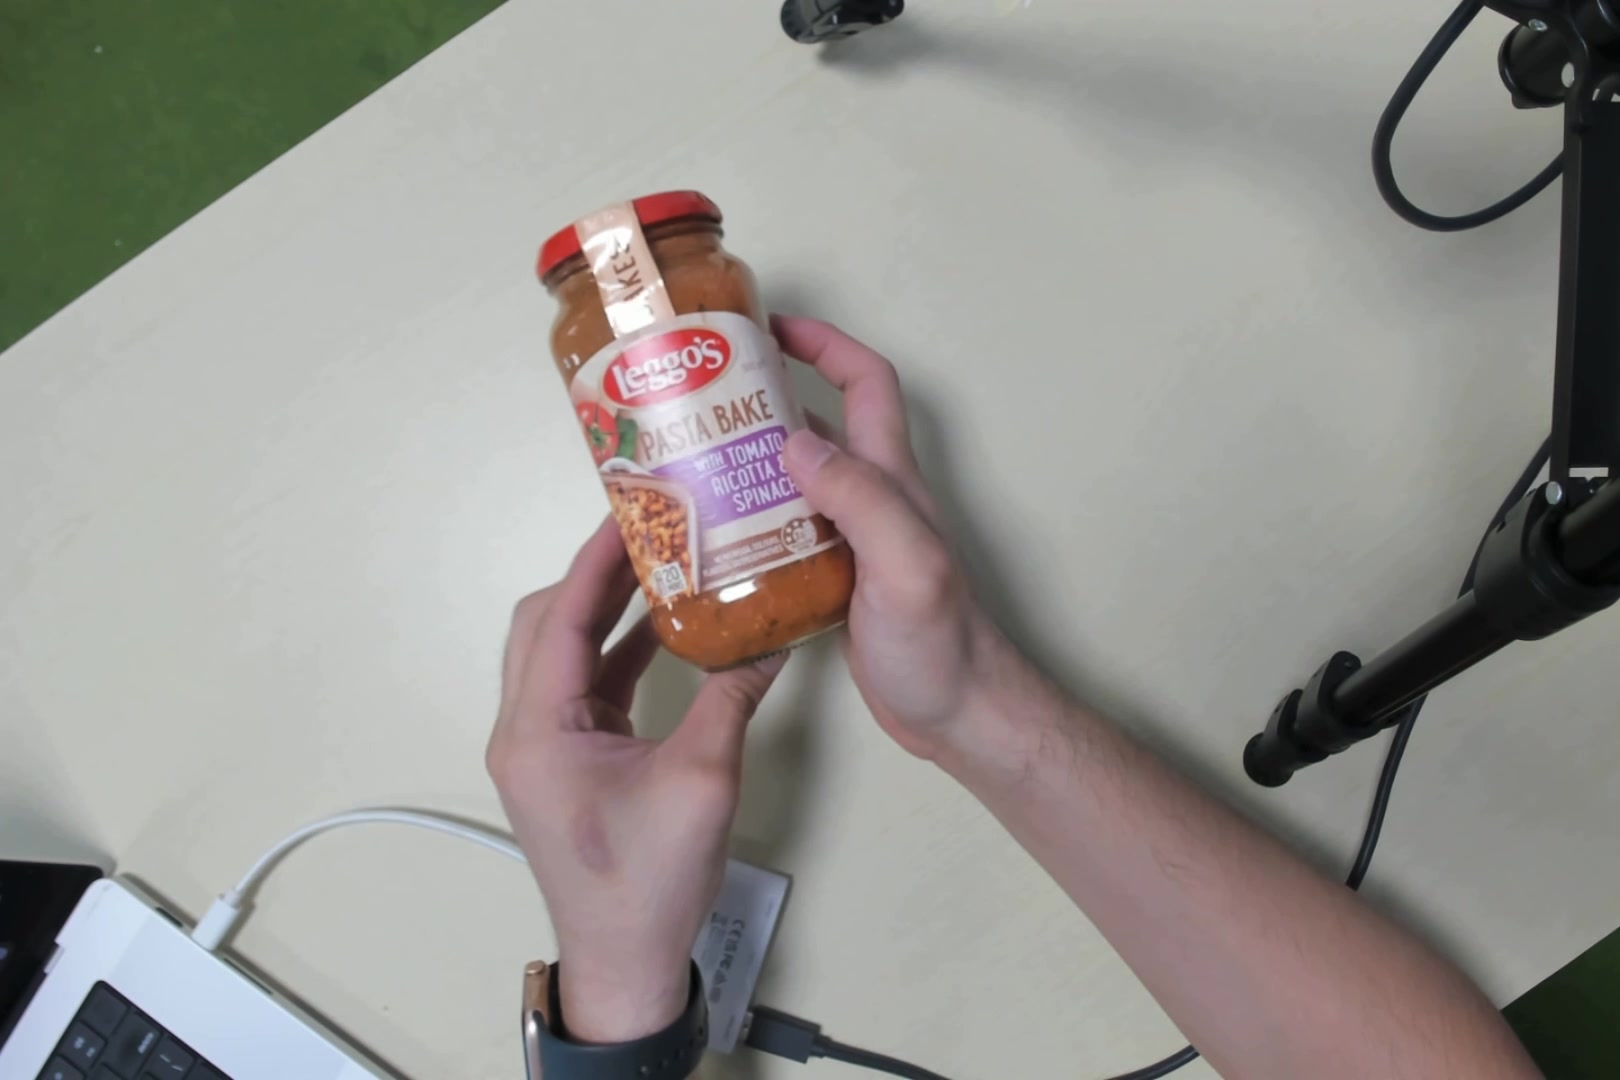Pasta_500-599g_Halal_NonHealthy: (577, 202, 830, 614)
